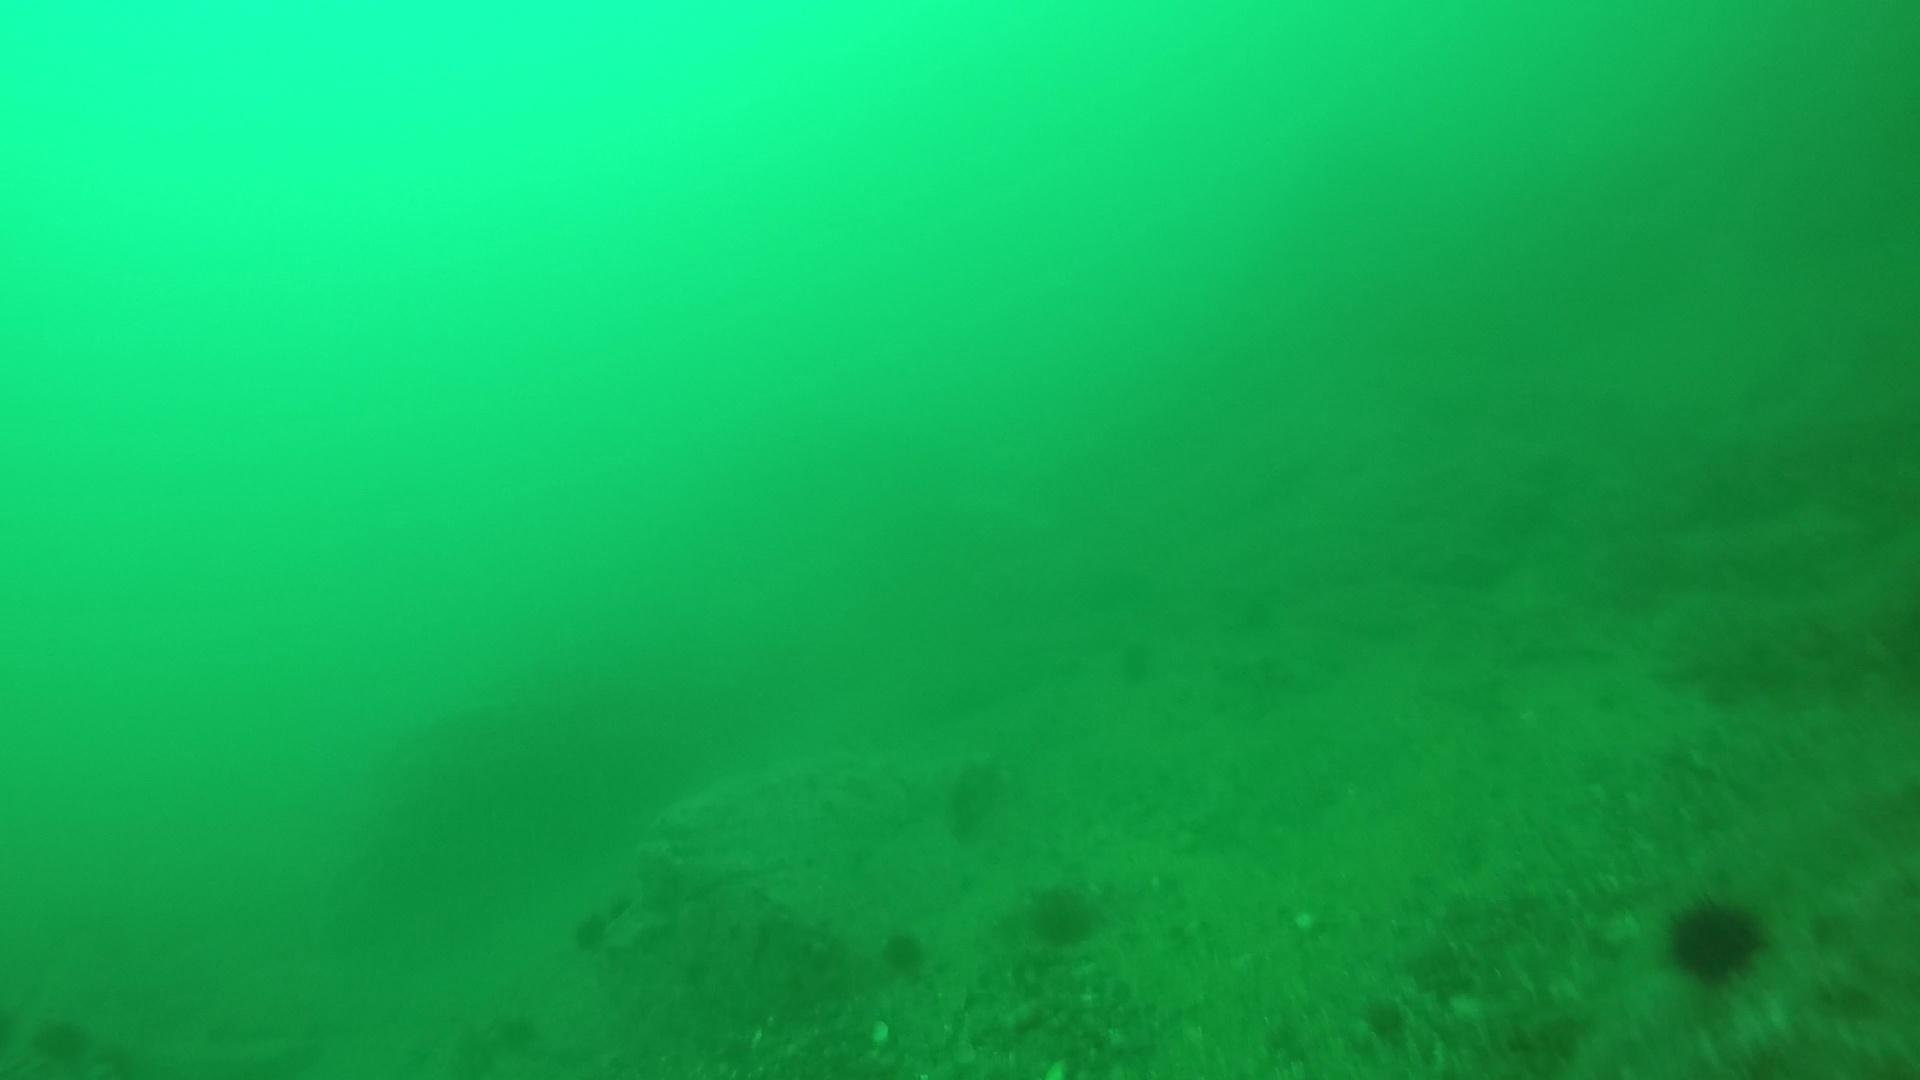echinus: (1660, 889, 1772, 988), (939, 753, 1011, 840), (1022, 876, 1102, 949), (26, 1009, 99, 1072), (876, 923, 934, 978), (1112, 634, 1162, 688), (564, 910, 613, 957), (601, 889, 644, 924)
